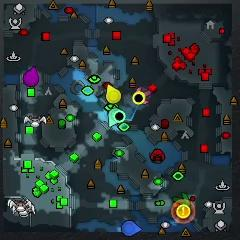Other: (176, 204, 190, 219)
p1: (122, 220, 141, 235)
p2: (108, 108, 123, 127)
p2Clone: (115, 110, 126, 123)
p3: (24, 66, 39, 87)
p4: (105, 84, 121, 103)
p4Clone: (133, 91, 144, 105)
x1: (135, 87, 151, 104)
x4: (174, 192, 190, 209)
